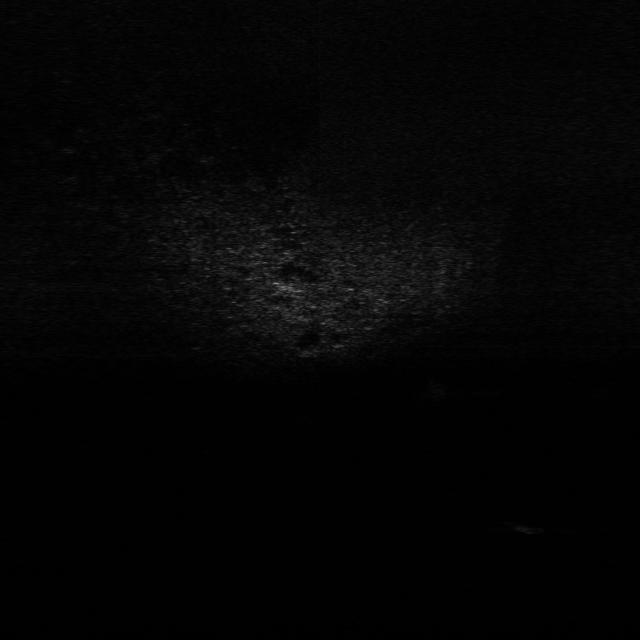cylinder: (498, 516, 551, 538)
